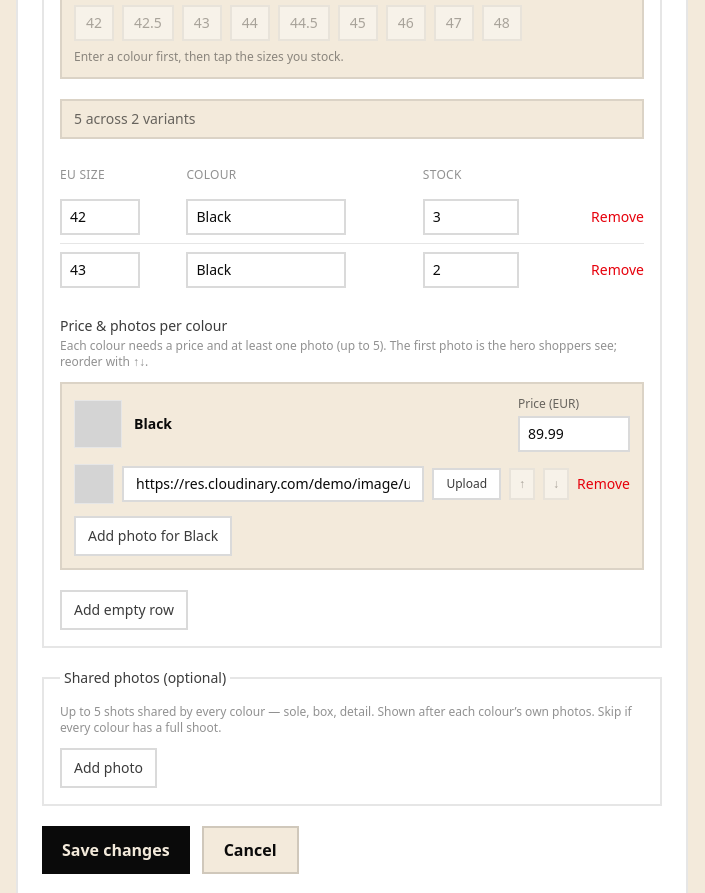
Test case: editing an existing product › surfaces a server error instead of navigating away
(page scrolled)
Step 1. Click the button "Save changes" → coordinates (116, 850), box [42,826,190,874]
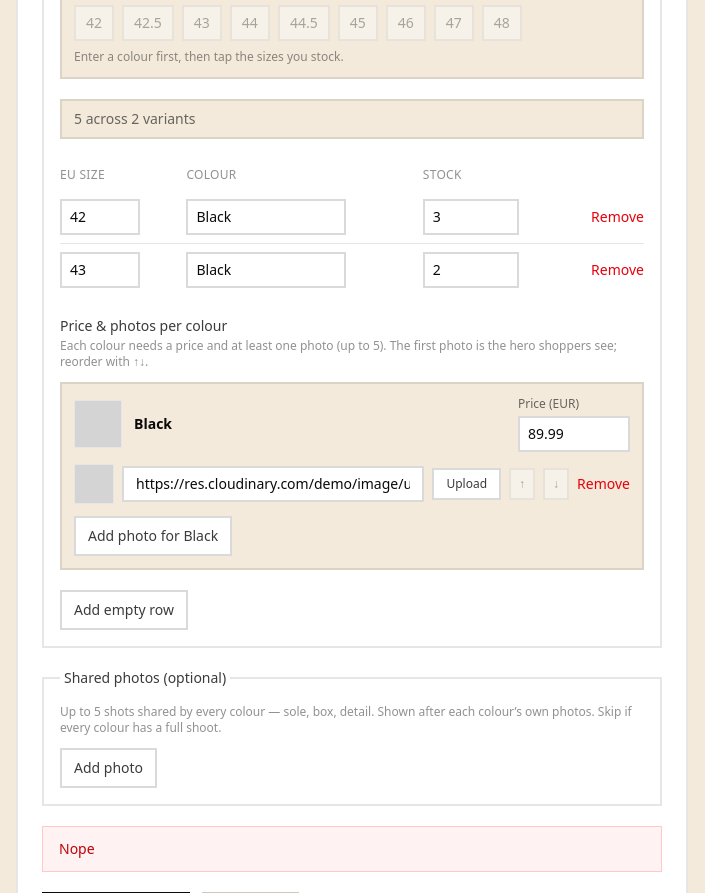
Result: the text "Nope" is shown at [42,826,662,872]
